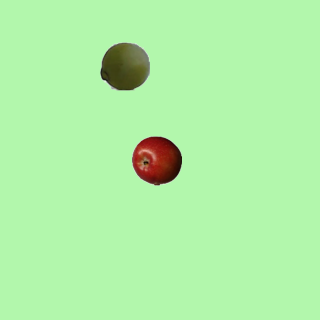Apple Braeburn: (131, 135, 181, 185)
Grape White 4: (99, 40, 149, 90)
